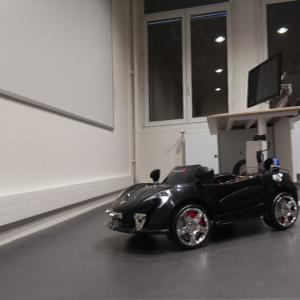big: (103, 156, 298, 250)
